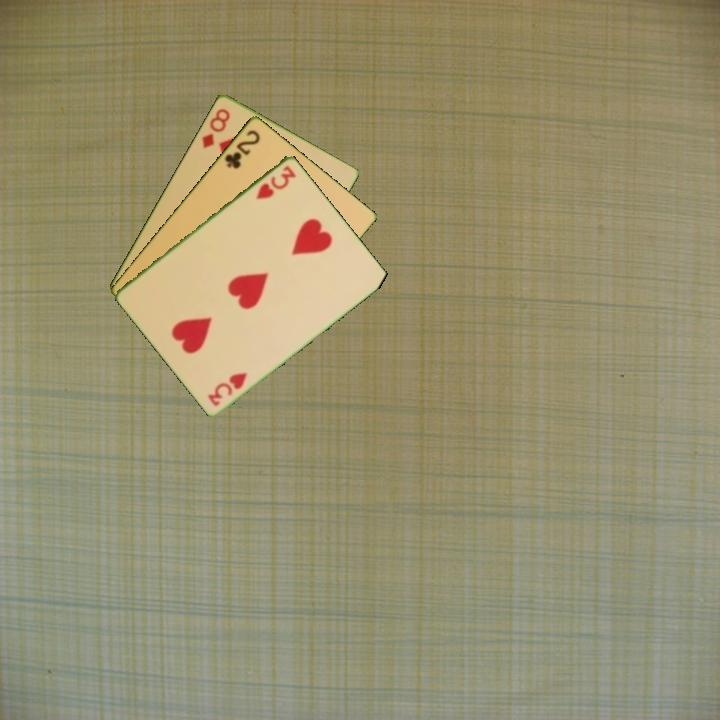2c: (221, 126, 263, 172)
3h: (204, 368, 250, 409), (252, 162, 299, 202)
8d: (198, 104, 233, 151)
